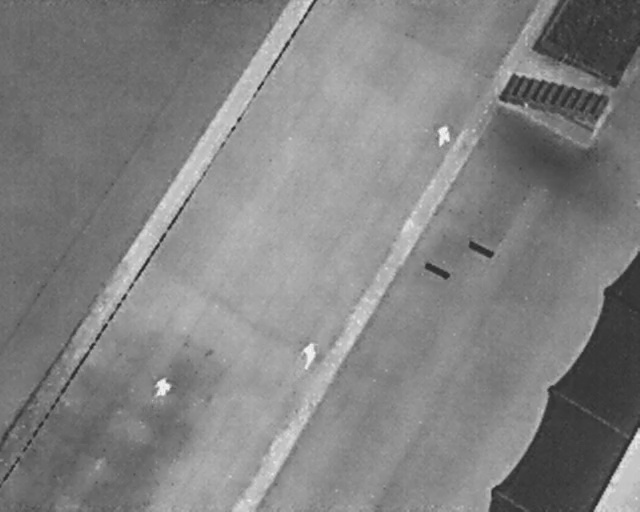Person: (298, 340, 320, 372), (152, 376, 172, 398), (435, 123, 452, 148)
